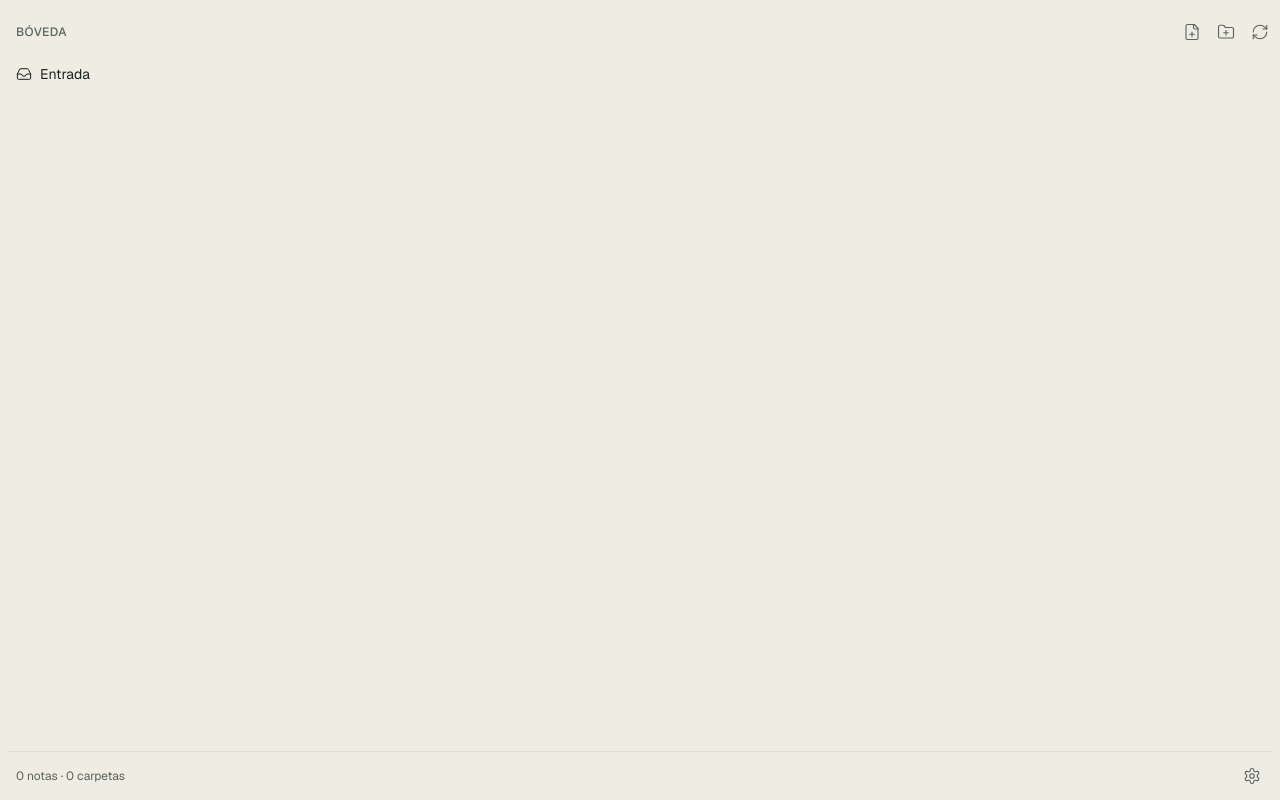
creación de carpetas con nombre obligatorio › cancelar cierra el diálogo sin crear
The width and height of the screenshot is (1280, 800).
Click the button with test id "new-folder-btn" at [1226, 32], box [1210,16,1242,48]
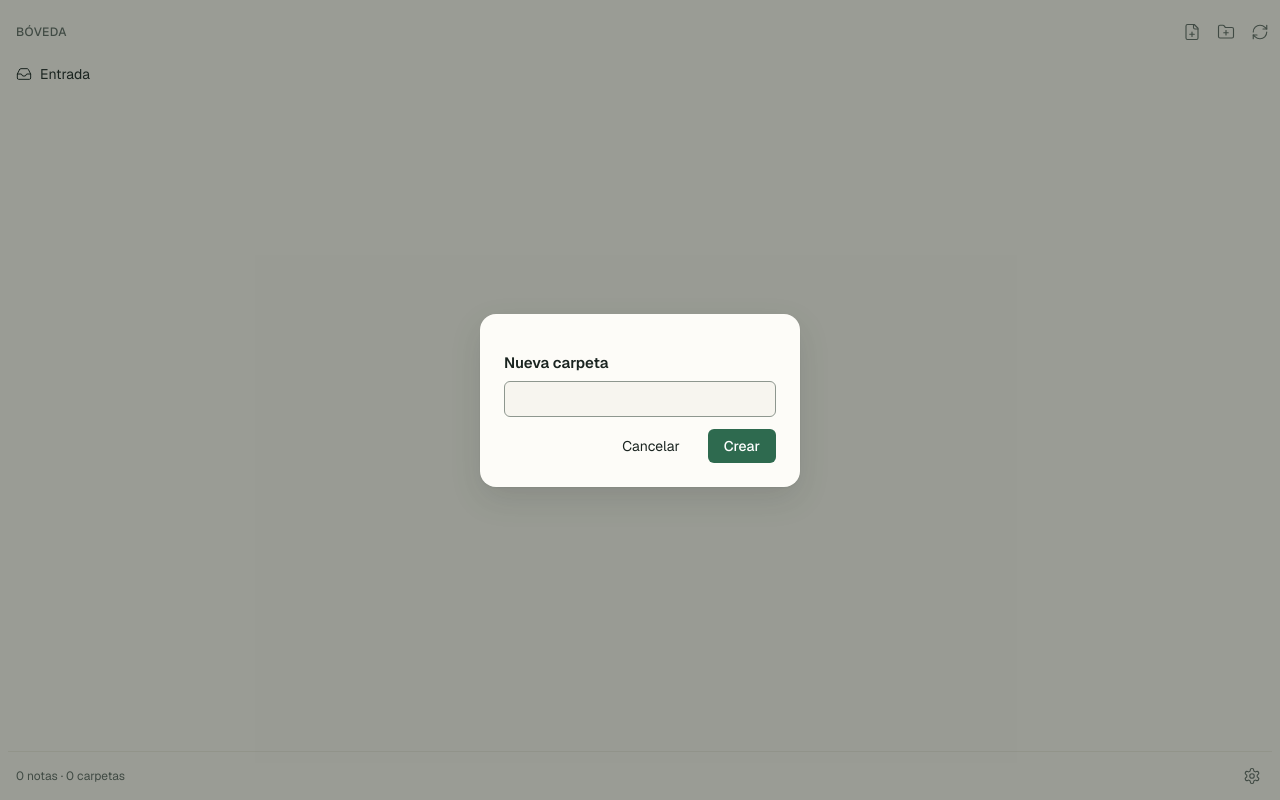
Click the button with test id "name-dialog-cancel" at [651, 446], box [606,428,696,462]
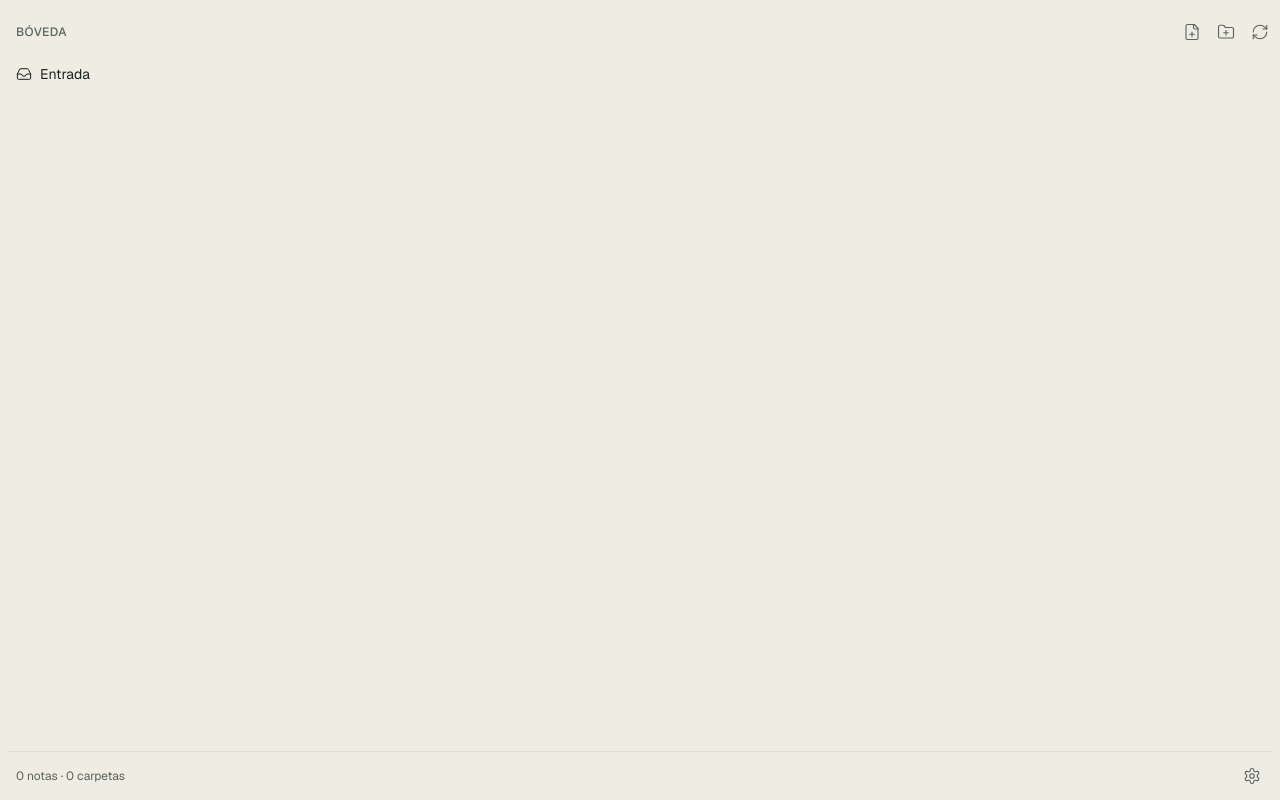
Check: the element with test id "name-dialog-overlay" is gone
